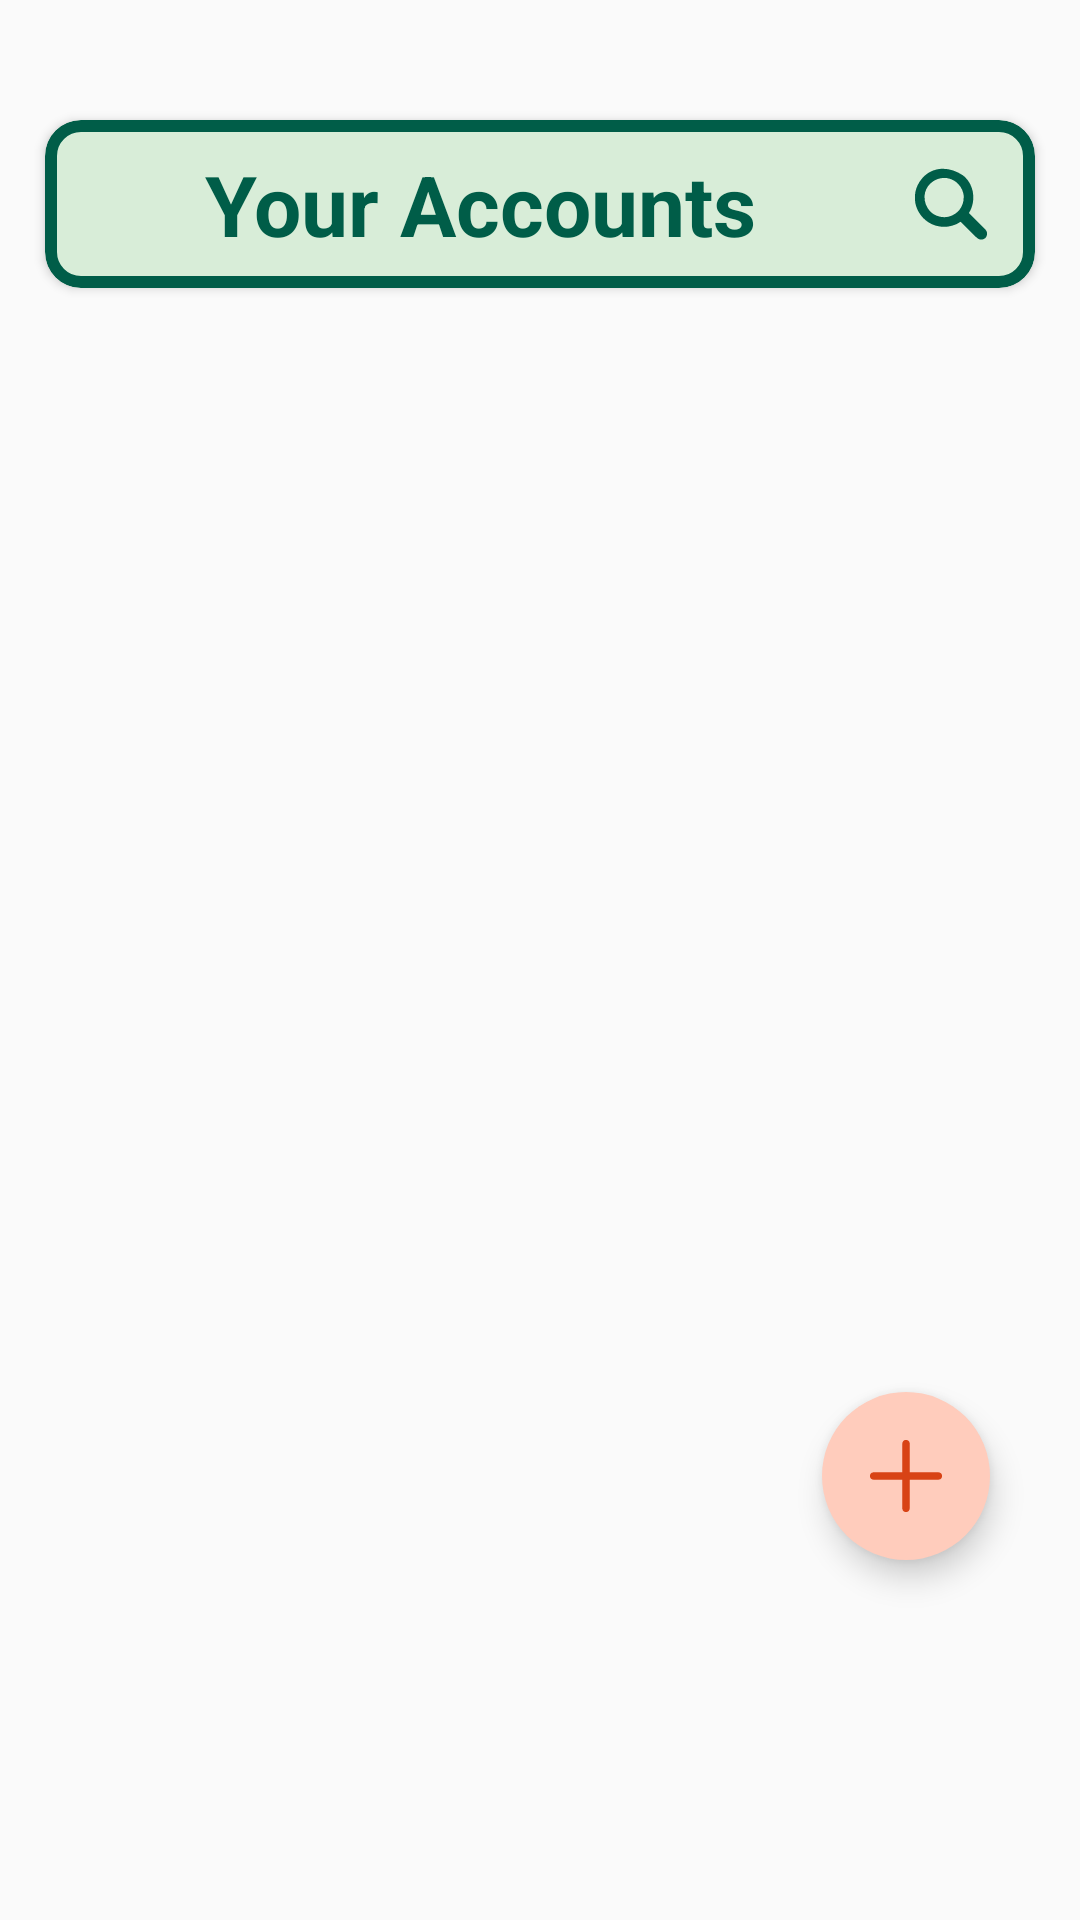

Icons on this 1080 x 1920 Android screen, each with the point to tap as (x=x, y=y):
plus: (x=906, y=1476)
Search: (x=951, y=204)
